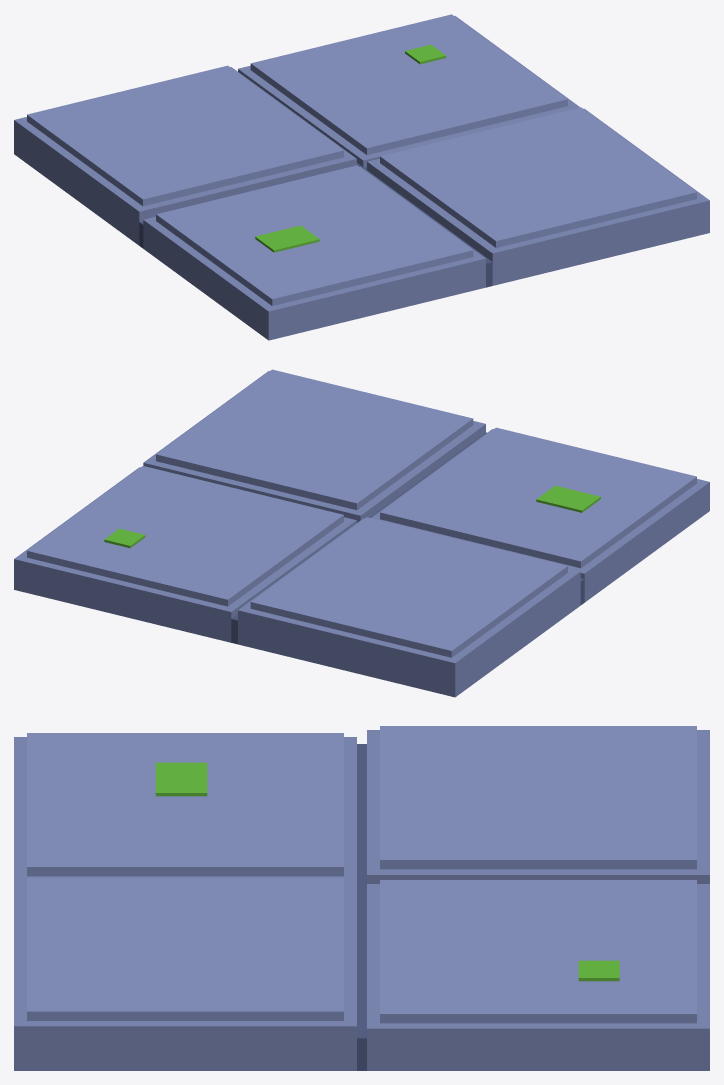
The model's file is Windswept_FloorTile.glb.
3 renders of one model, top to bottom at view 1: azimuth 30°, elevation 25°; view 2: azimuth 150°, elevation 25°; view 3: azimuth 270°, elevation 25°, orthographic. The views are drawn at different scales.
Parts seen in each view (by area): view 1: Slab_4_Top, Slab_1_Top, Slab_2_Top, Slab_3_Top, Slab_3, Slab_4, Slab_1, Slab_2, Moss_1; view 2: Slab_1_Top, Slab_4_Top, Slab_2_Top, Slab_3_Top, Slab_1, Slab_2, Slab_3, Slab_4, Moss_1, Moss_2; view 3: Slab_1_Top, Slab_4_Top, Slab_2_Top, Slab_3_Top, Slab_4, Slab_2, Slab_1, Slab_3, Moss_1, Seam_Z_R, Seam_Z_L, Moss_2.
Part boxes in pixels (x1,y1,x2,y2): Slab_4_Top: [380, 107, 696, 247]; Slab_1_Top: [27, 65, 343, 206]; Slab_2_Top: [250, 14, 567, 154]; Slab_3_Top: [156, 165, 473, 305]; Slab_3: [143, 166, 485, 340]; Slab_4: [367, 108, 709, 285]; Slab_1: [14, 67, 356, 245]; Slab_2: [238, 16, 579, 167]; Moss_1: [255, 225, 319, 252]; Slab_1_Top: [250, 517, 567, 657]; Slab_4_Top: [156, 369, 473, 509]; Slab_2_Top: [27, 466, 343, 606]; Slab_3_Top: [380, 427, 696, 568]; Slab_1: [238, 518, 580, 697]; Slab_2: [14, 467, 356, 642]; Slab_3: [371, 429, 709, 602]; Slab_4: [143, 371, 485, 522]; Moss_1: [536, 485, 600, 512]; Moss_2: [104, 528, 145, 548]; Slab_1_Top: [380, 726, 696, 869]; Slab_4_Top: [27, 877, 343, 1020]; Slab_2_Top: [380, 880, 696, 1023]; Slab_3_Top: [27, 733, 343, 876]; Slab_4: [14, 881, 356, 1070]; Slab_2: [367, 884, 709, 1070]; Slab_1: [367, 730, 709, 883]; Slab_3: [14, 737, 356, 881]; Moss_1: [155, 762, 207, 796]; Seam_Z_R: [357, 893, 366, 1070]; Seam_Z_L: [357, 744, 366, 888]; Moss_2: [578, 960, 619, 981].
Size of the model in its own units: 1.35 by 0.12 by 1.35.
